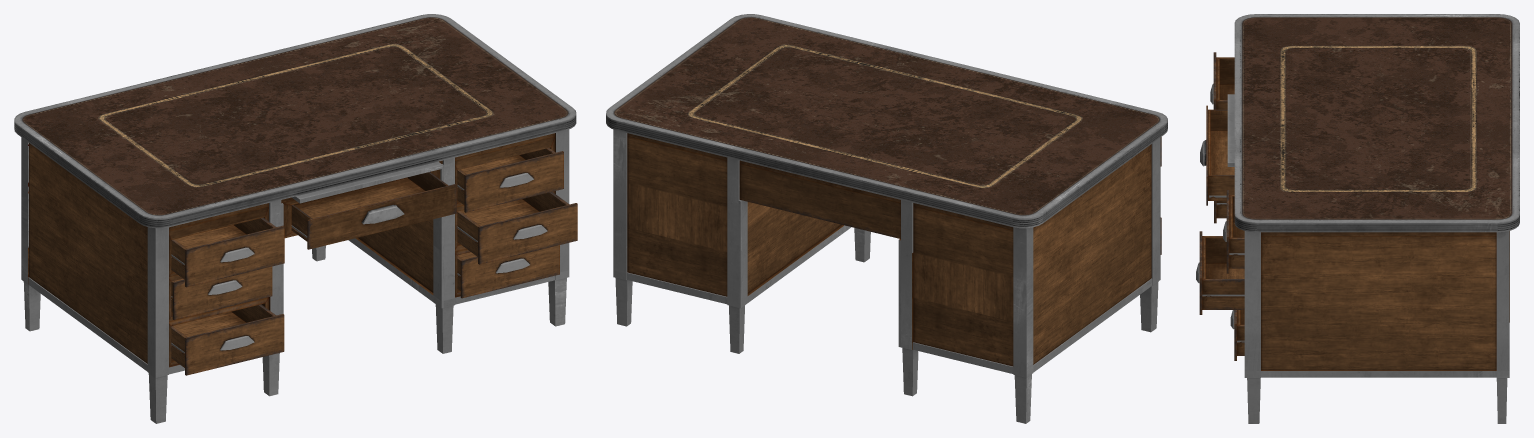
Rendered from desk.glb.
3 renders of one model, left to right at view 1: azimuth 30°, elevation 25°; view 2: azimuth 150°, elevation 25°; view 3: azimuth 270°, elevation 25°, orthographic.
Parts seen in each view (by area): view 1: Object_2; view 2: Object_2; view 3: Object_2.
Boxes of the visible parts, x1=… form: Object_2: x1=14, y1=14, x2=577, y2=423; Object_2: x1=606, y1=14, x2=1167, y2=423; Object_2: x1=1196, y1=14, x2=1519, y2=423.
Bounding box in the file's own units: 1.9 × 0.8778 × 1.24.
1 material, 1 textured.
